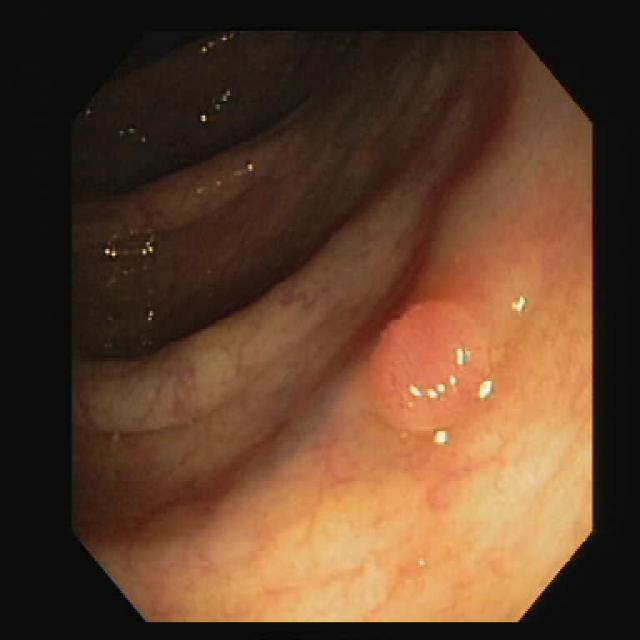tumor: (370, 302, 488, 429)
